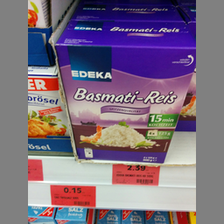rice: (56, 19, 195, 164)
